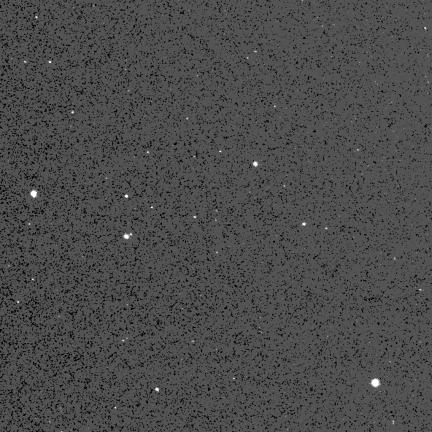blob: (371, 379, 381, 388), (31, 190, 37, 197), (253, 161, 258, 167), (124, 234, 129, 239), (303, 222, 307, 227), (125, 195, 129, 199), (155, 388, 159, 391), (71, 111, 75, 114), (194, 216, 197, 219), (49, 61, 52, 64)
